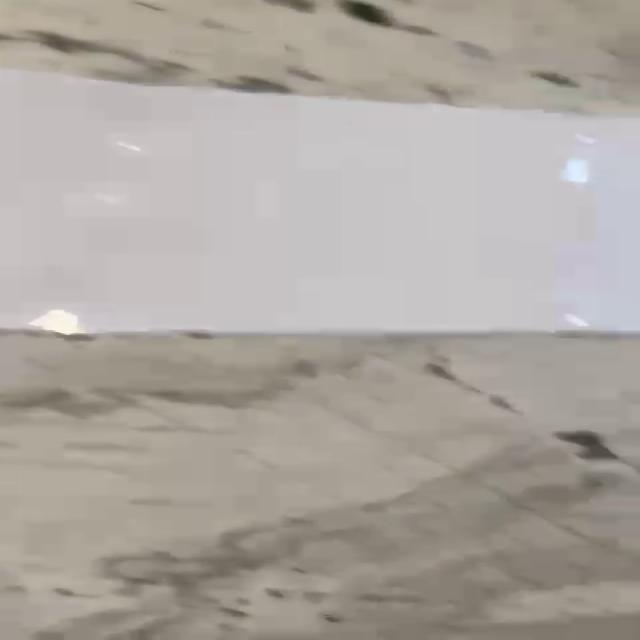road: (0, 69, 640, 335)
